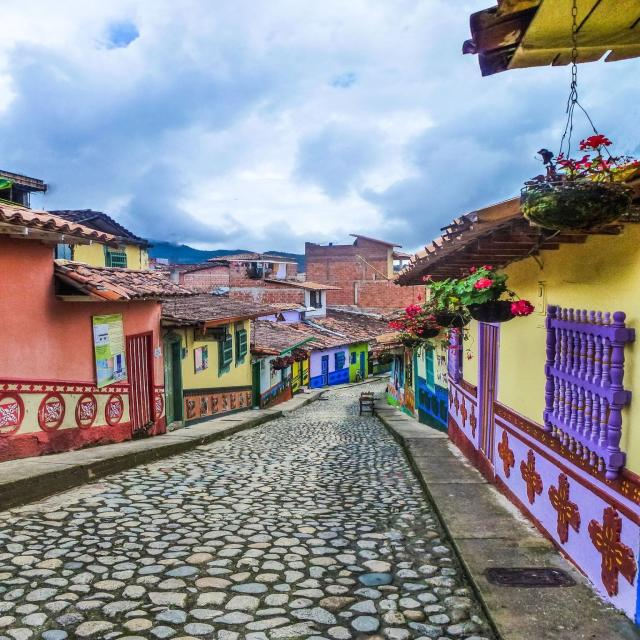Fachada: (402, 198, 640, 623), (0, 203, 173, 461), (162, 294, 268, 426), (51, 210, 152, 270), (251, 316, 308, 408), (414, 333, 449, 432), (308, 326, 350, 388), (348, 338, 369, 382)
